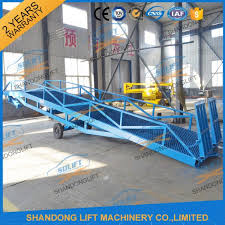Yard Ramp: (3, 78, 220, 169)
